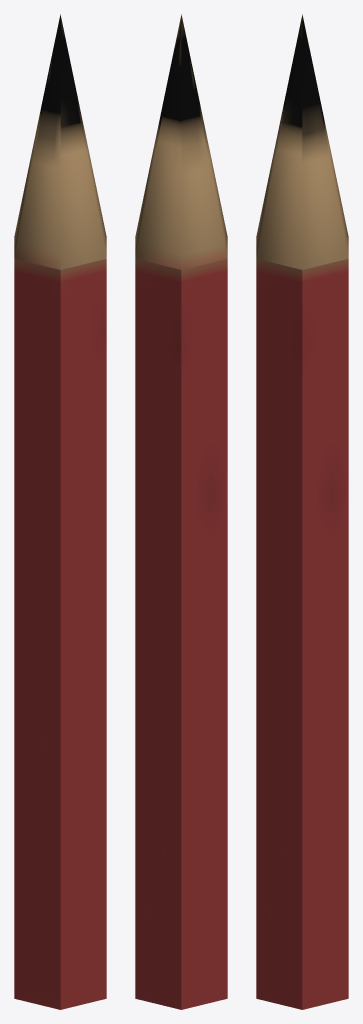
Rendered from pencil.fbx.
3 renders of one model, left to right at view 1: azimuth 30°, elevation 25°; view 2: azimuth 150°, elevation 25°; view 3: azimuth 330°, elevation 25°, orthographic.
Visible parts, largest first — view 1: pCylinder33; view 2: pCylinder33; view 3: pCylinder33.
Boxes of the visible parts, box(x1,y1,x2,y2) form: pCylinder33: box(14, 14, 106, 1009); pCylinder33: box(135, 14, 227, 1009); pCylinder33: box(256, 14, 348, 1009).
Bounding box in the file's own units: 6.78 × 68.47 × 5.87.
